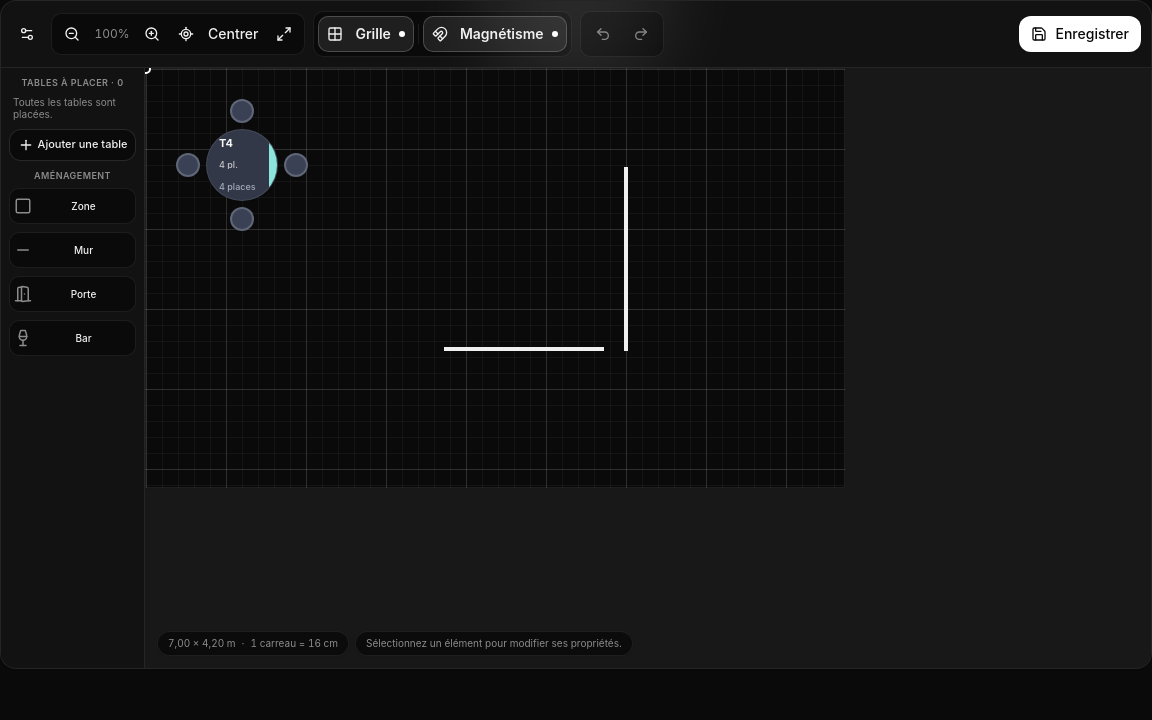
Scenario: FloorPlanCanvas — guides des murs › ouvre la confirmation de suppression avec Delete sur une table sélectionnée
Click the button with aria-label "T4 · 4 places" at [242, 165], box [210,133,274,197]
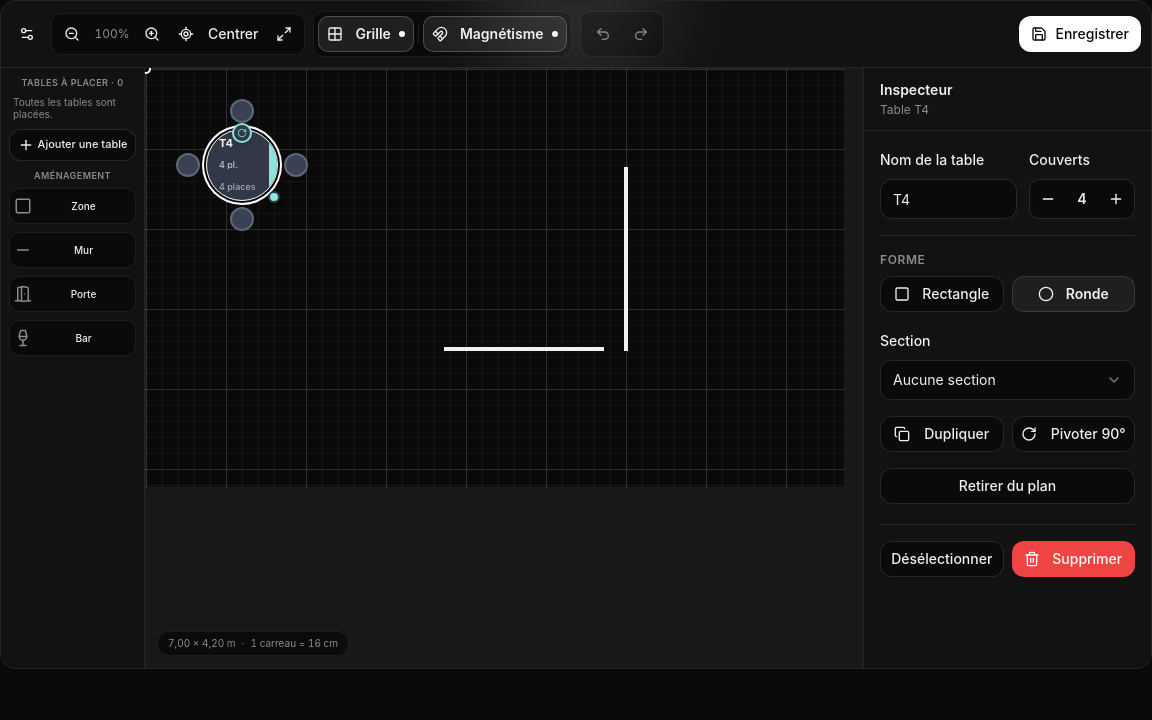
Press Delete
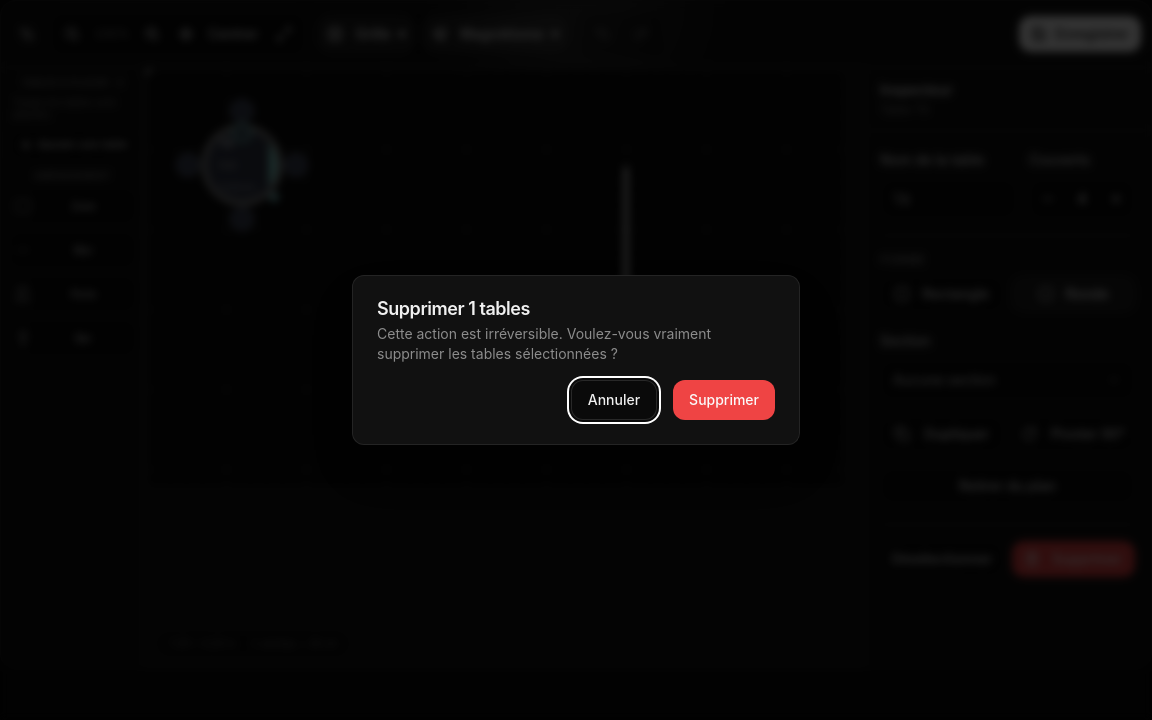
Check: the heading "Supprimer 1 tables" is shown, box [377,298,530,319]
